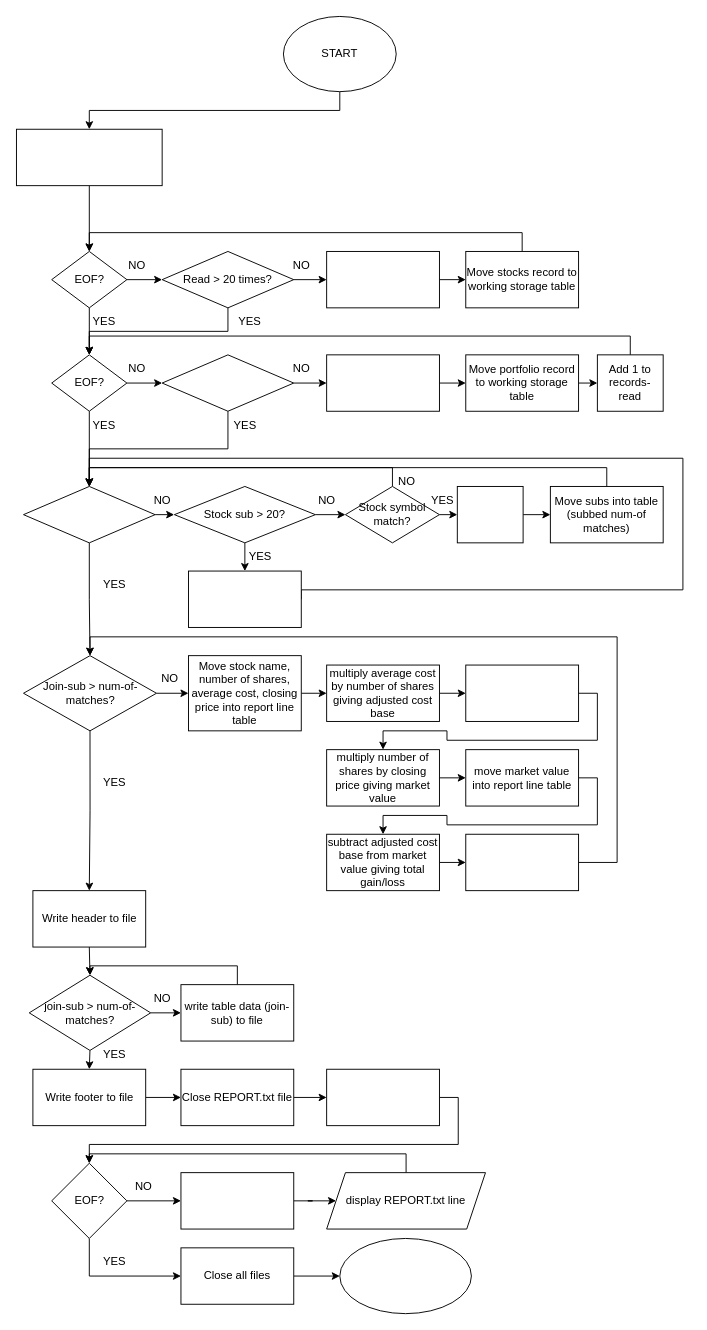
Some shapes in this 707 by 1330 pixel diagram are drawn without their labels. Each missing label, with the centre of its shape:
"Add 1 to Num-of-matches" goes at (x=489, y=514).
"move adjusted cost base into report line table" goes at (x=522, y=692).
"move total gain/los into report line table" goes at (x=522, y=862).
"Open input STOCKS-IN Open input PORTFOLIO-IN Open output REPORT-OUT" goes at (x=89, y=157).
"Open REPORT.txt file in read mode" goes at (x=382, y=1097).
"Portfolio sub > 7?" goes at (x=89, y=514).
"Read > 7 times?" goes at (x=227, y=382).
"Read PORTFOLIO-IN" goes at (x=382, y=382).
"Read REPORT.txt line" goes at (x=237, y=1200).
"Read STOCKS-IN" goes at (x=382, y=279).
"reset stock sub to 1" goes at (x=244, y=598).
"STOP RUN." goes at (x=405, y=1276).
